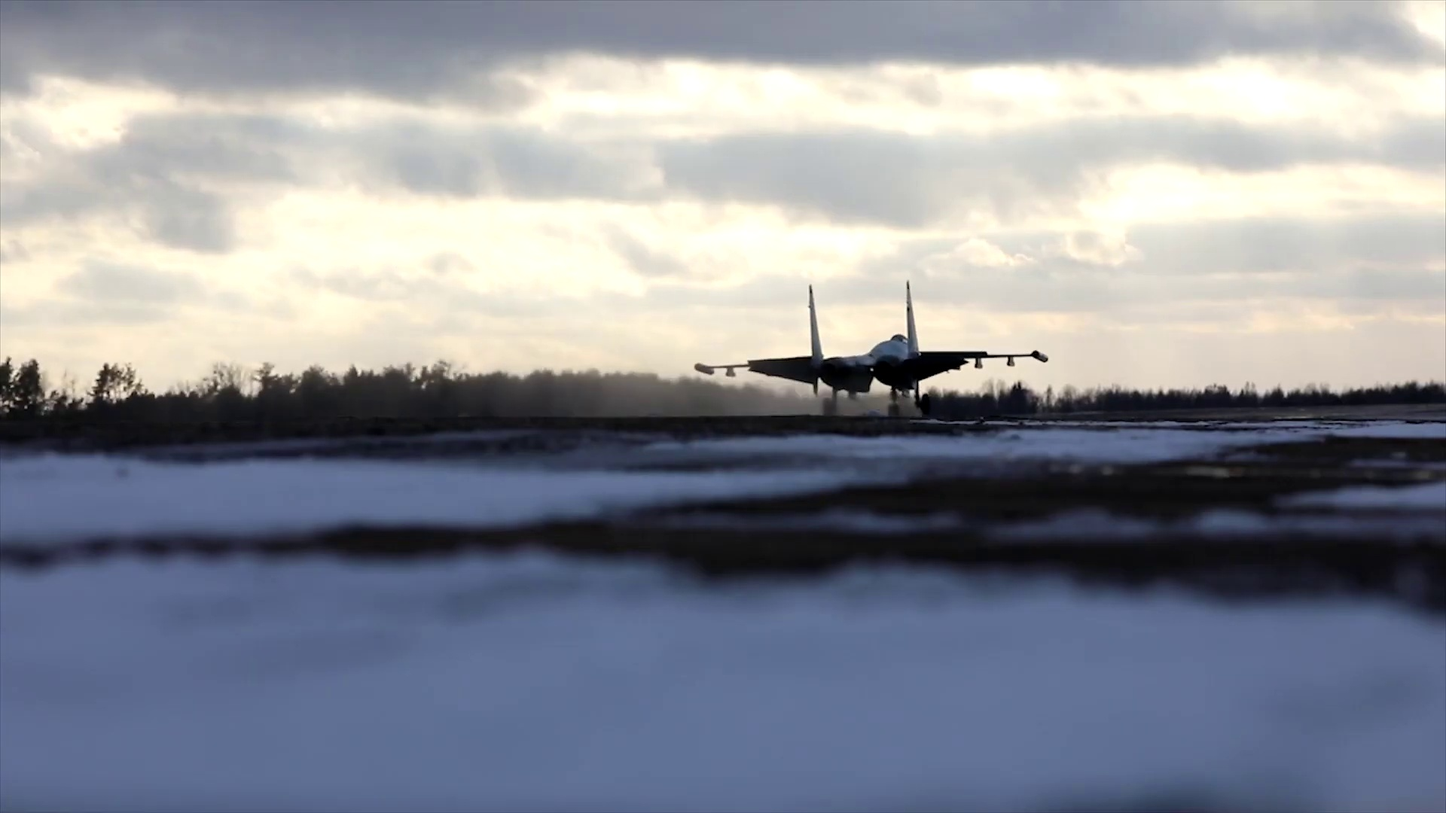Su35: (694, 280, 1049, 419)
